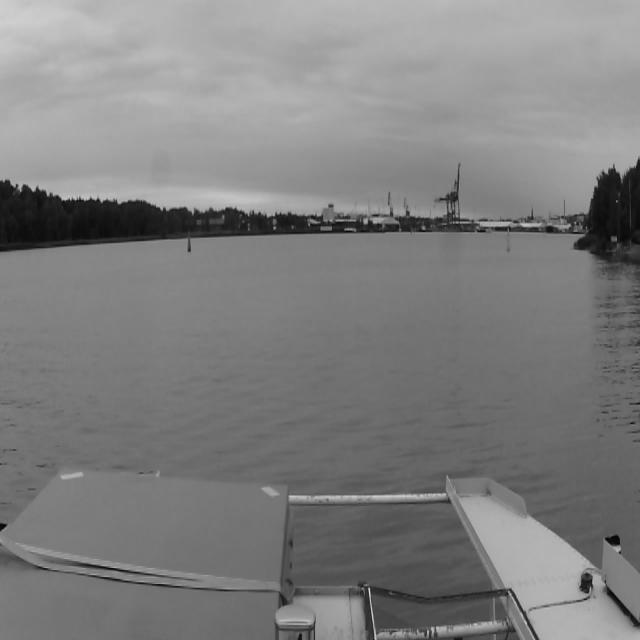buoy: (505, 226, 512, 250), (186, 228, 192, 250)
